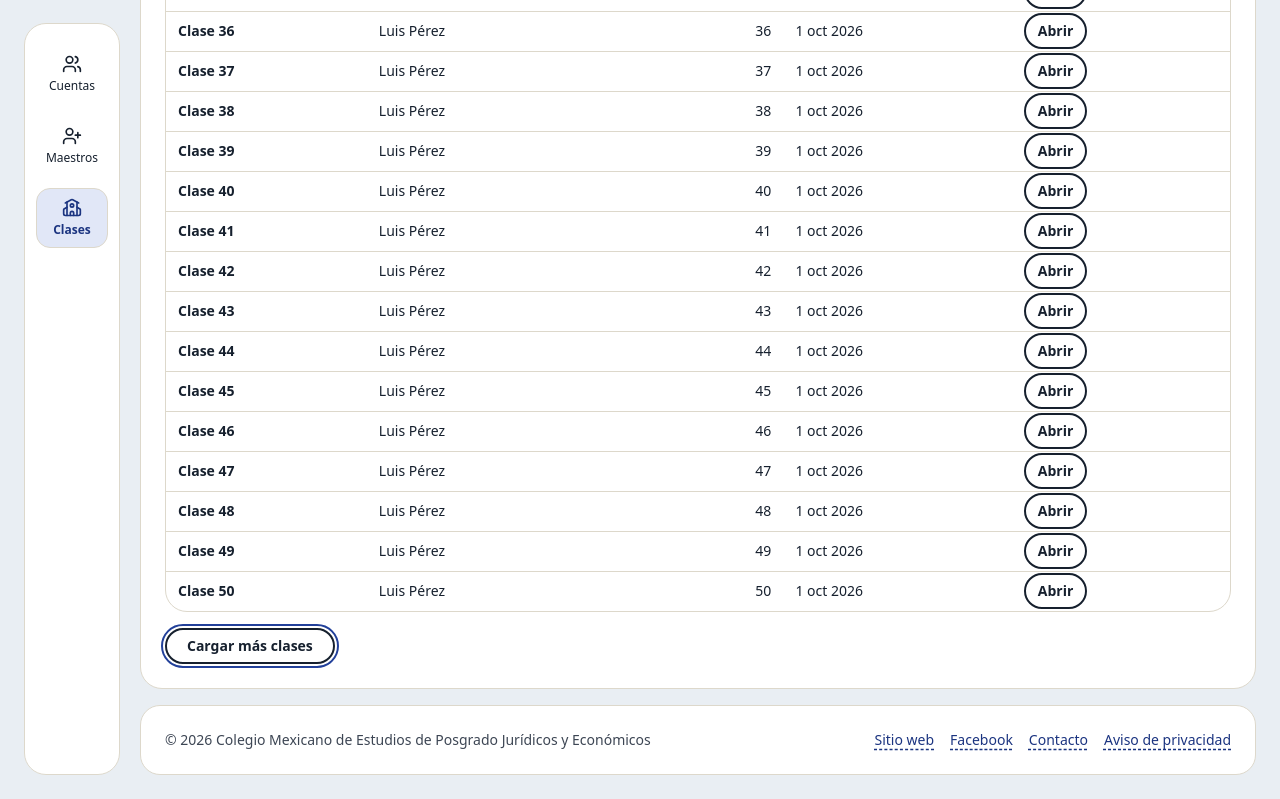
Scenario: ataque CLASES-02c r1: «Cargar más clases» › si la última página llega vacía, el foco va al encabezado «Clases», nunca a <body>
The image size is (1280, 799).
(page scrolled)
Click the button "Cargar más clases" at (250, 646), box [165,628,335,664]
(page scrolled)
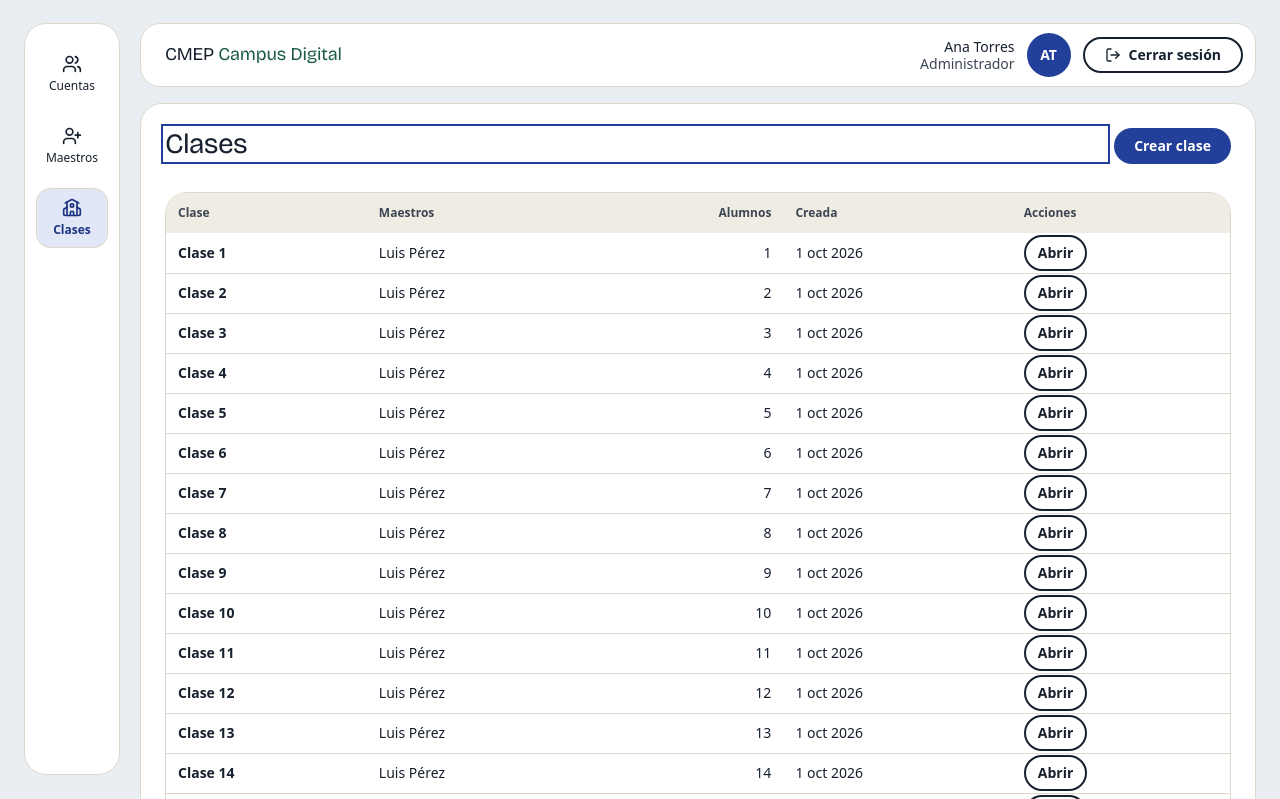
Expected: the button "Cargar más clases" is gone
